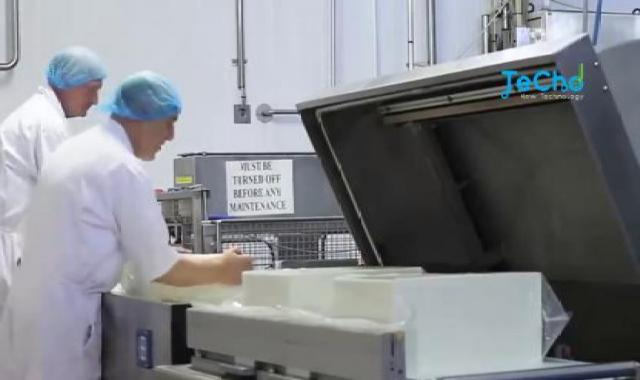hairnet: (108, 74, 189, 128), (40, 40, 108, 96)
